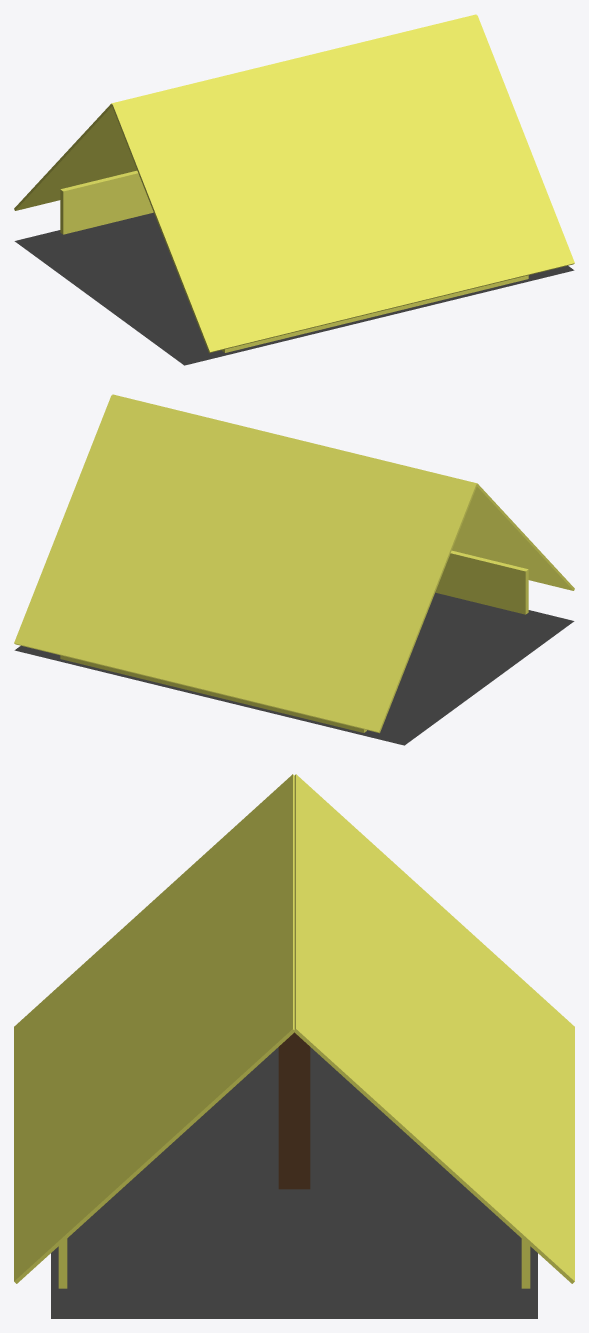
Rendered from Tent.fbx.
3 renders of one model, top to bottom at view 1: azimuth 30°, elevation 25°; view 2: azimuth 150°, elevation 25°; view 3: azimuth 270°, elevation 25°, orthographic. The views are drawn at different scales.
Parts seen in each view (by area): view 1: Plane; view 2: Plane; view 3: Plane.
Boxes of the visible parts, x1,y1,x2,y2 form: Plane: [14, 14, 574, 365]; Plane: [14, 394, 574, 745]; Plane: [14, 774, 574, 1318].
Bounding box in the file's own units: 333 × 169 × 290.
